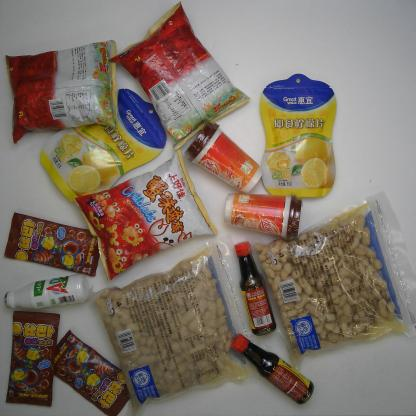Candy: (47, 331, 133, 412), (5, 212, 96, 278), (3, 309, 62, 407)
Dried Food: (252, 196, 414, 366), (96, 249, 265, 403)
Dried Fruit: (37, 90, 169, 197), (260, 73, 336, 197)
Instant Drink: (186, 119, 264, 191), (219, 195, 303, 240)
Milk: (6, 275, 92, 309)
Puffed Food: (111, 1, 249, 147), (73, 151, 219, 281), (2, 35, 118, 133)
Seasoner: (223, 331, 313, 404), (235, 241, 276, 336)
